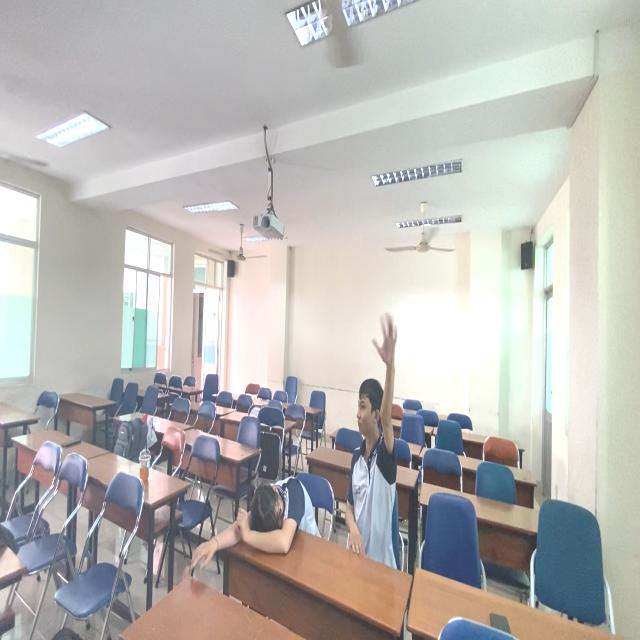raise_hand: (344, 306, 405, 568)
sleep: (218, 472, 324, 557)
